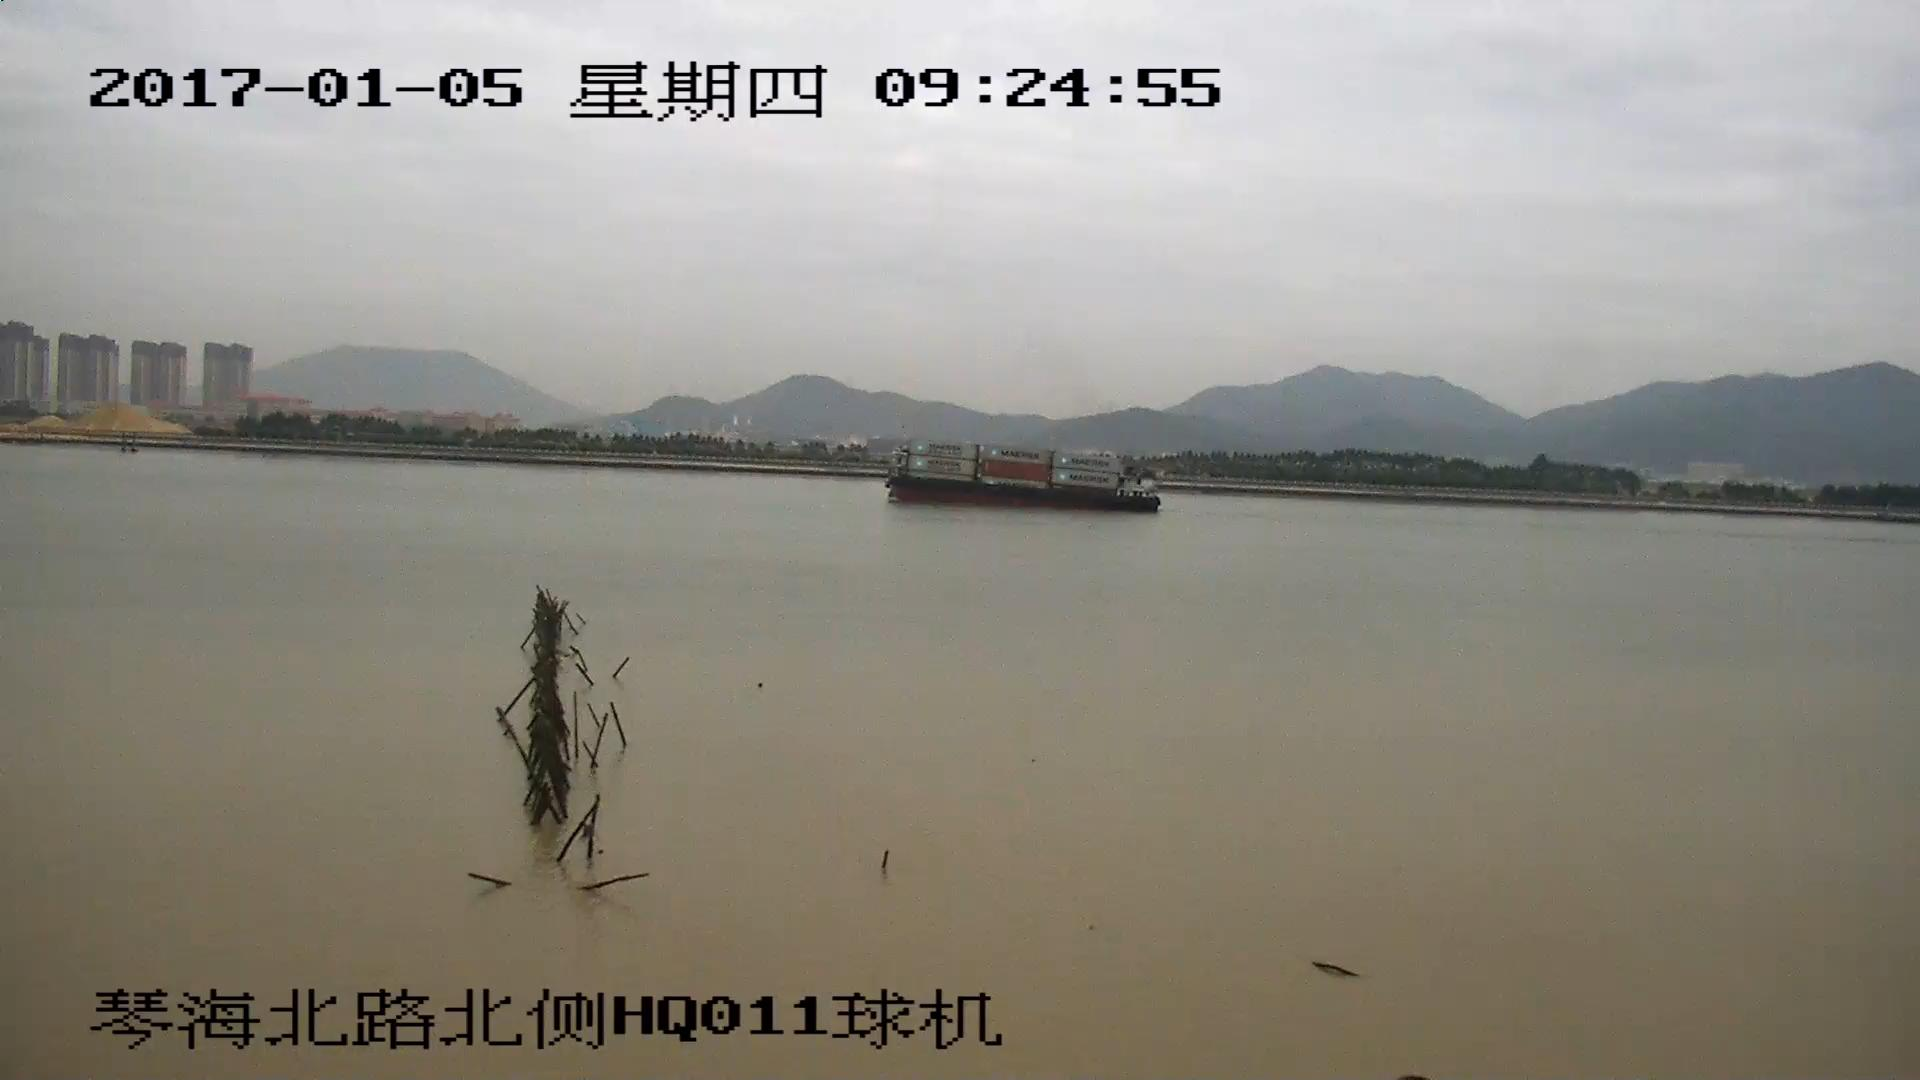container ship: (878, 440, 1161, 511)
